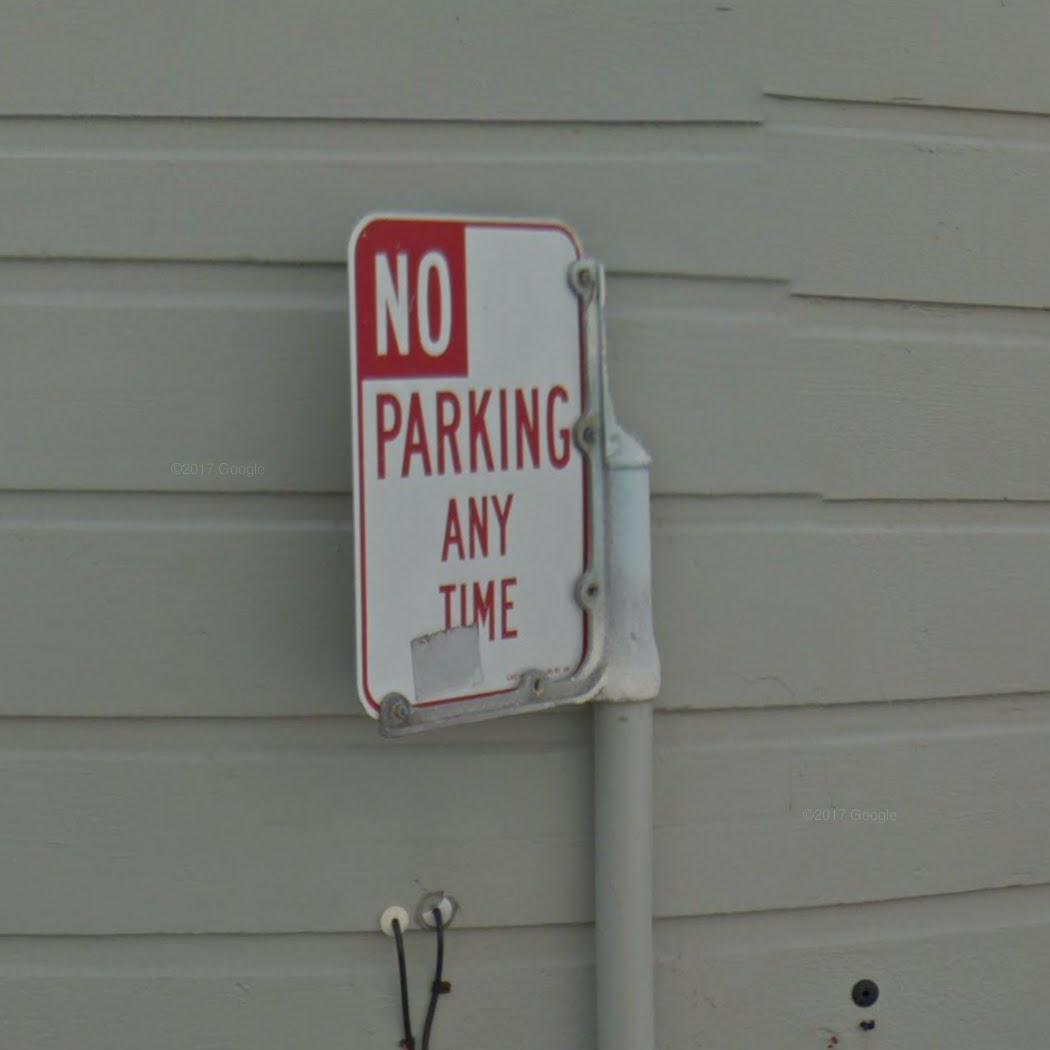No Parking Anytime: (344, 206, 607, 731)
